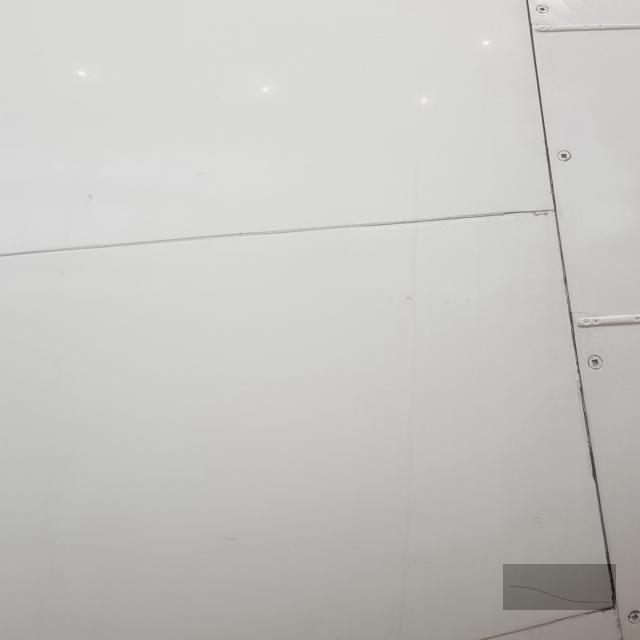crack: (504, 565, 617, 611)
